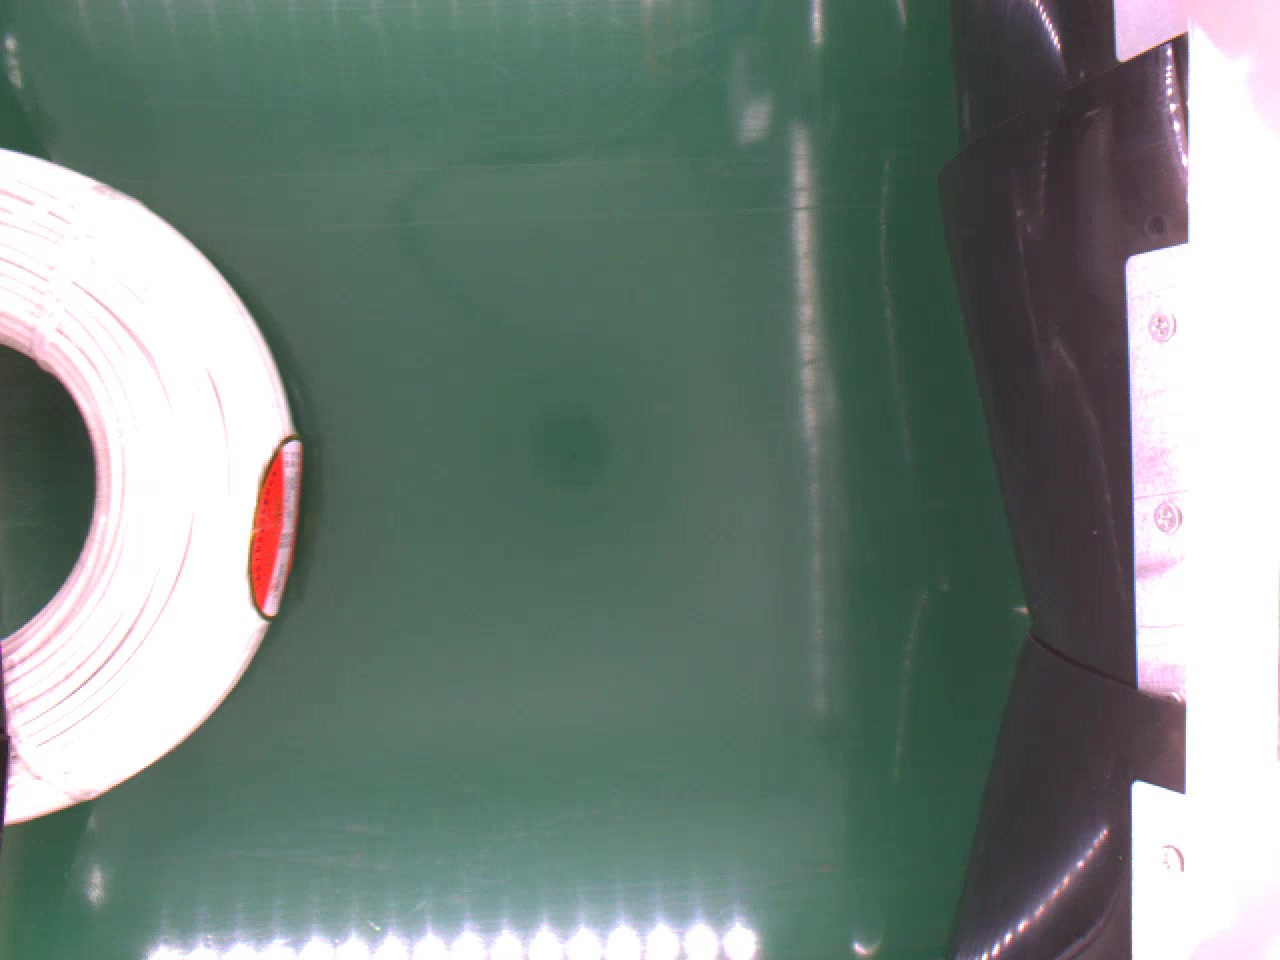white: (0, 144, 306, 829)
